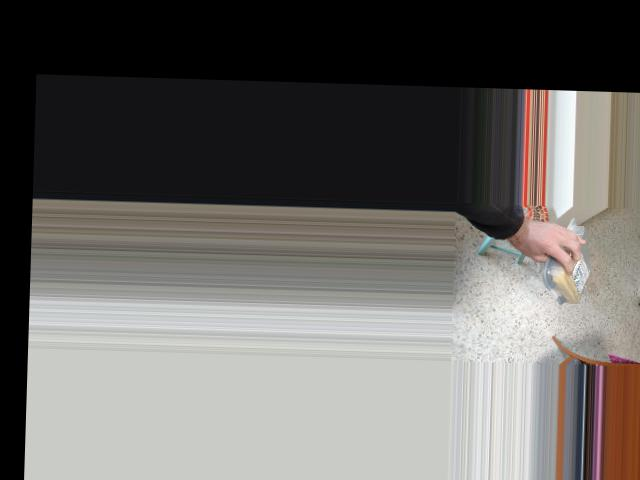cheese: (548, 241, 592, 307)
